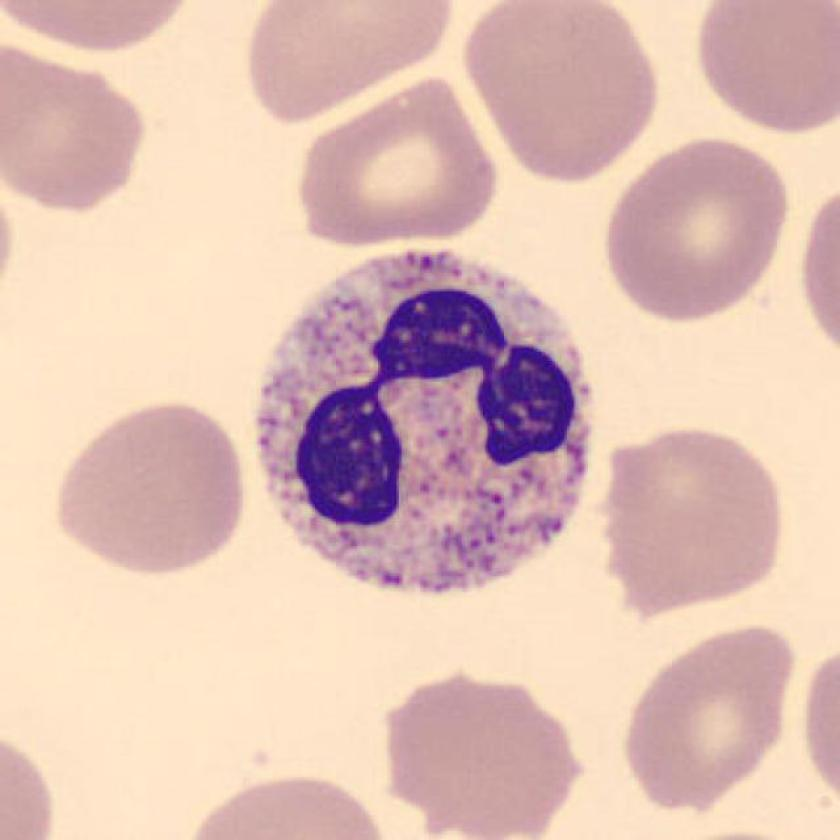neutrophil: (252, 250, 592, 593)
